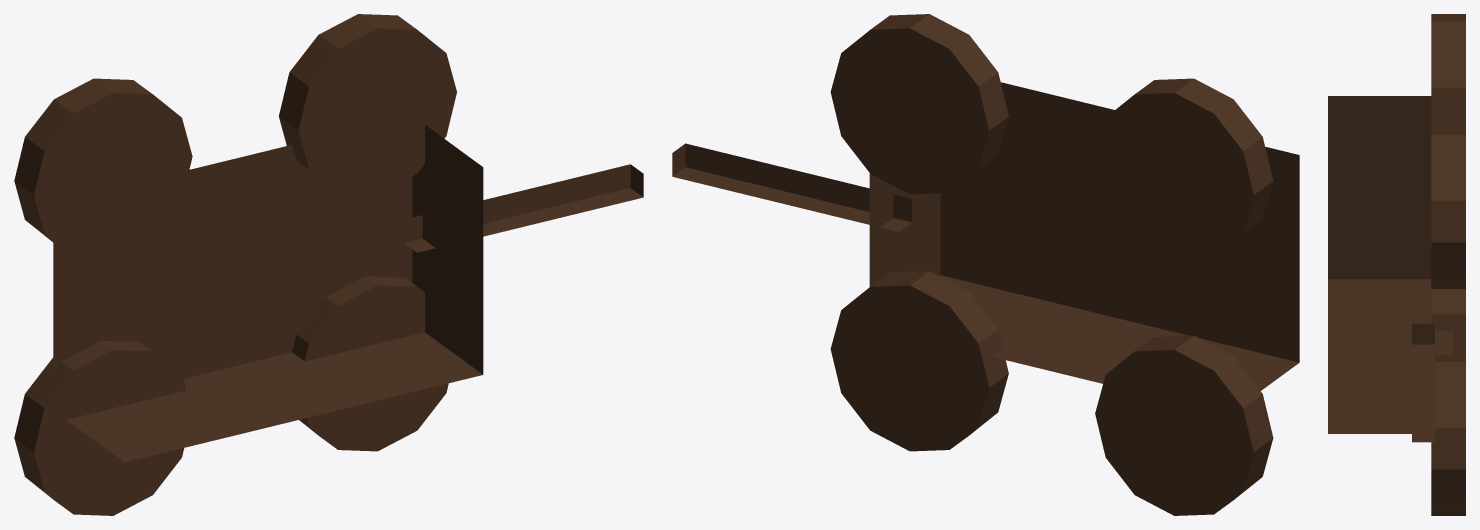
Rendered from SM_BreeTradeWagon.obj.
3 views of the same model, side by side, from view 1: azimuth 30°, elevation 25°; view 2: azimuth 150°, elevation 25°; view 3: azimuth 270°, elevation 25° (orthographic). The views are drawn at different scales.
Parts seen in each view (by area): view 1: SM_BreeTradeWagon; view 2: SM_BreeTradeWagon; view 3: SM_BreeTradeWagon.
Boxes of the visible parts, box(x1,y1,x2,y2) form: SM_BreeTradeWagon: box(14, 14, 643, 515); SM_BreeTradeWagon: box(672, 14, 1299, 515); SM_BreeTradeWagon: box(1328, 14, 1465, 515).
Size of the model in its own units: 317 by 214 by 71.5.
